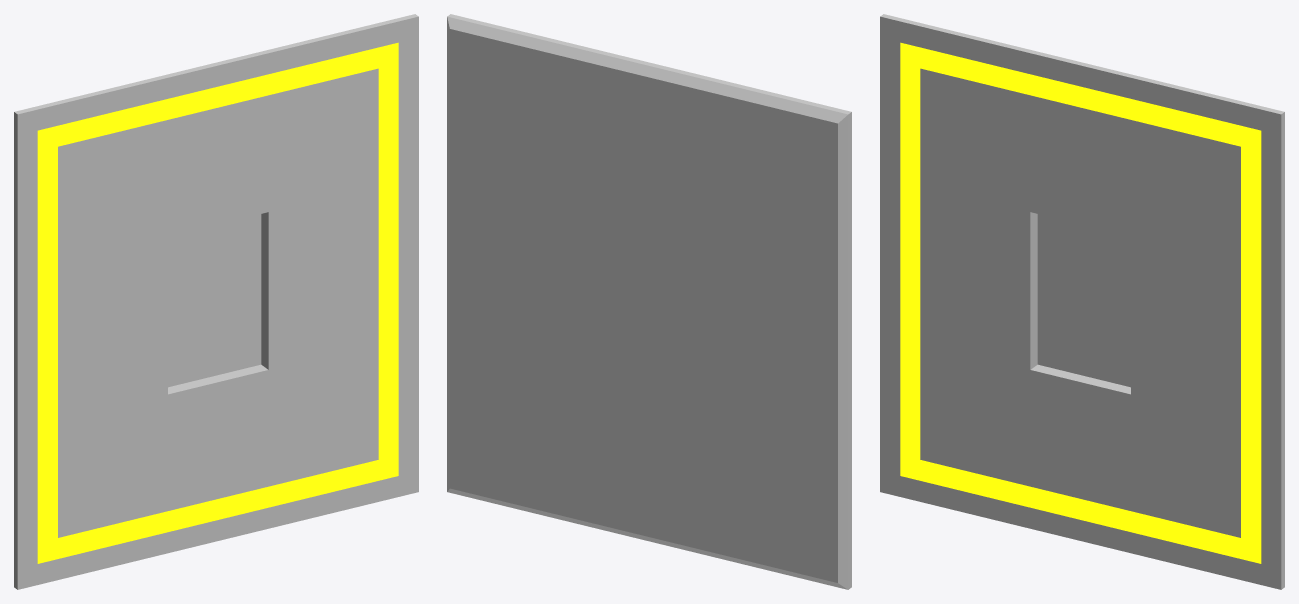
Rendered from mdl_zesty_powerlid.gltf.
The picture shows the model from 3 angles, left to right: view 1: azimuth 30°, elevation 25°; view 2: azimuth 150°, elevation 25°; view 3: azimuth 330°, elevation 25°; orthographic projection.
Visible parts, largest first — view 1: mdl_zesty_powerlid; view 2: mdl_zesty_powerlid; view 3: mdl_zesty_powerlid.
Part boxes in pixels (left/top/right/bottom): mdl_zesty_powerlid: left=14, top=14, right=418, bottom=589; mdl_zesty_powerlid: left=447, top=14, right=851, bottom=589; mdl_zesty_powerlid: left=880, top=14, right=1284, bottom=589.
Bounding box in the file's own units: 0.7992 × 0.9053 × 0.0251.
